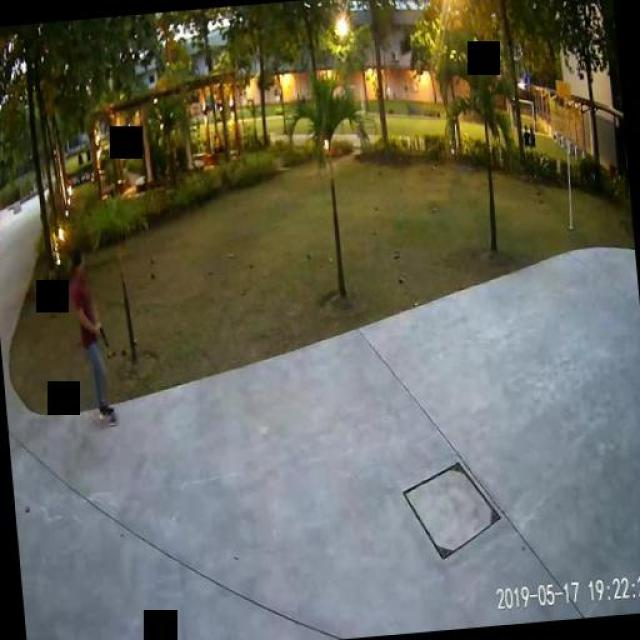gun: (95, 322, 109, 348)
